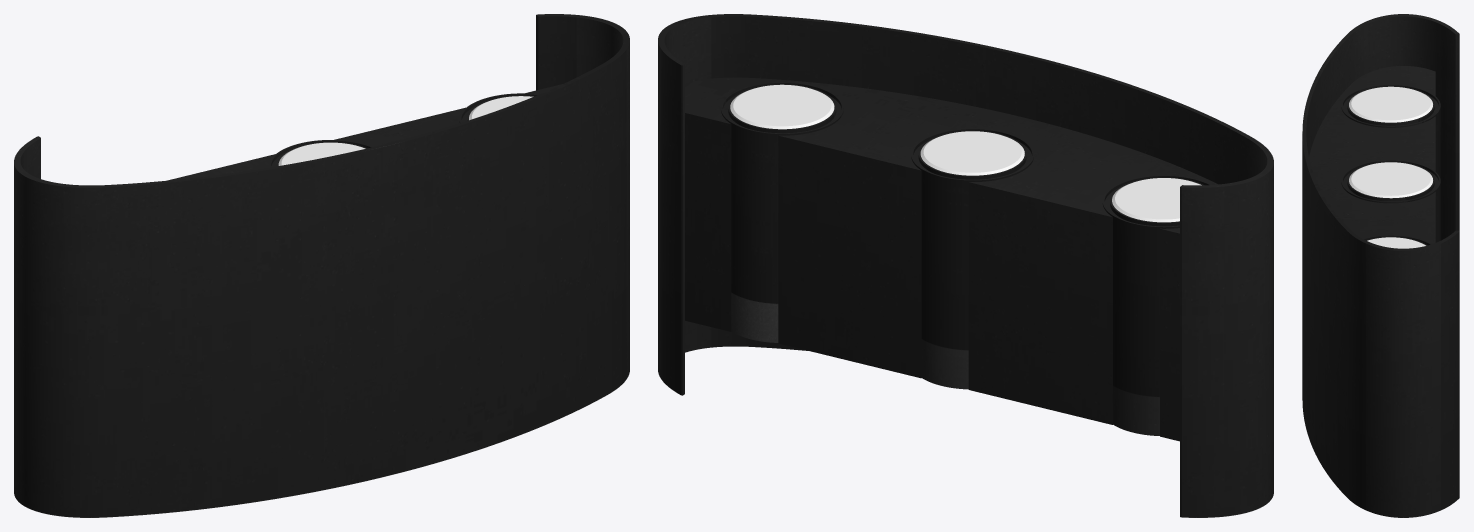
The model's file is 001_Eko-Iluminaciones.glb.
3 renders of one model, left to right at view 1: azimuth 30°, elevation 25°; view 2: azimuth 150°, elevation 25°; view 3: azimuth 270°, elevation 25°, orthographic. The views are drawn at different scales.
Parts seen in each view (by area): view 1: root; view 2: root; view 3: root.
Part boxes in pixels (bbox=[...]): root: bbox=[14, 14, 629, 517]; root: bbox=[658, 14, 1273, 517]; root: bbox=[1302, 14, 1459, 517].
Bounding box in the file's own units: 0.15 × 0.0788 × 0.042.
Materials: 2 (1 with a texture image).
